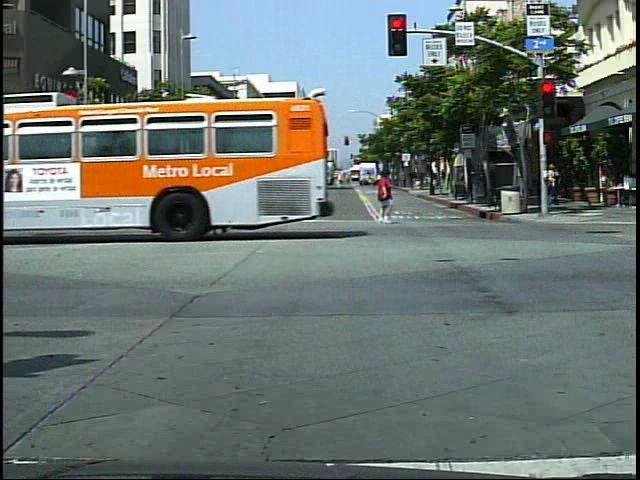person: (259, 166, 290, 229), (152, 169, 181, 235), (374, 168, 397, 227), (546, 161, 564, 211)
